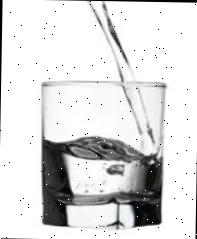glass: (40, 79, 168, 229)
